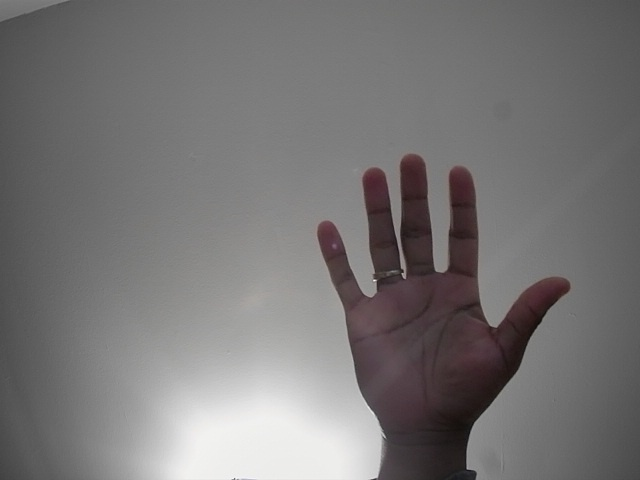Hello: (296, 137, 580, 472)
